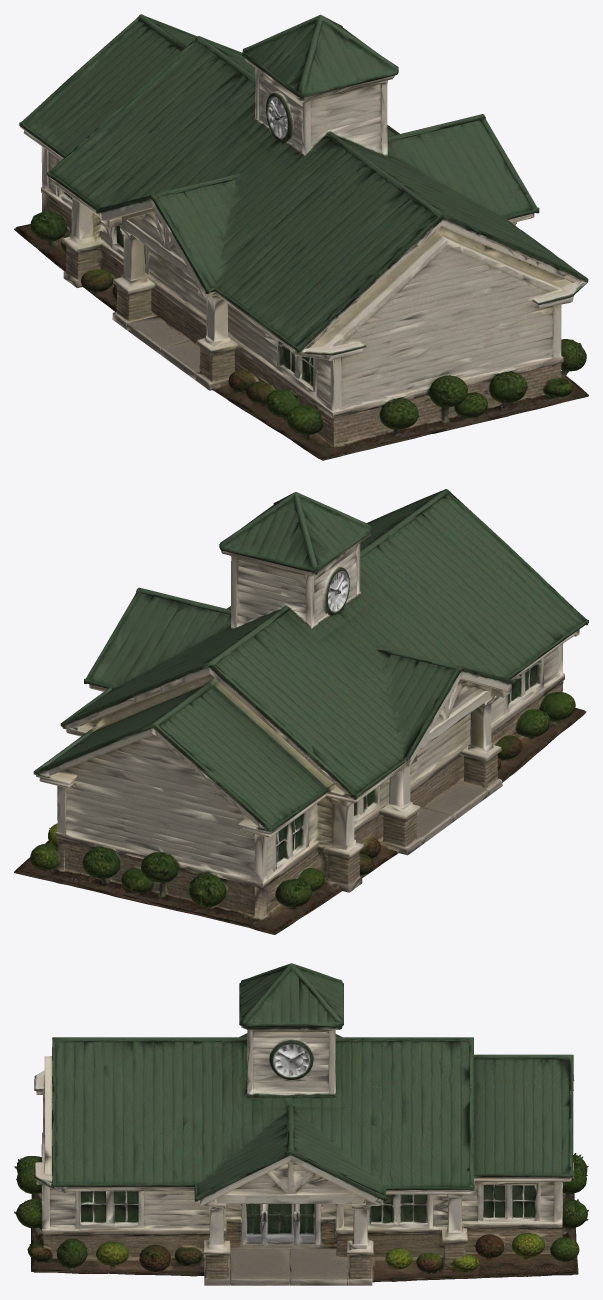
The model's file is clubhouse_ext_opt.glb.
The picture shows the model from 3 angles, top to bottom: view 1: azimuth 30°, elevation 25°; view 2: azimuth 150°, elevation 25°; view 3: azimuth 270°, elevation 25°; orthographic projection. The views are drawn at different scales.
Visible parts, largest first — view 1: tripo_node_c66626a8-394e-4e8f-b652-7bf8c5440bb5; view 2: tripo_node_c66626a8-394e-4e8f-b652-7bf8c5440bb5; view 3: tripo_node_c66626a8-394e-4e8f-b652-7bf8c5440bb5.
Part boxes in pixels (box(x1,y1,x2,y2)): tripo_node_c66626a8-394e-4e8f-b652-7bf8c5440bb5: box(14, 14, 588, 460); tripo_node_c66626a8-394e-4e8f-b652-7bf8c5440bb5: box(14, 489, 588, 934); tripo_node_c66626a8-394e-4e8f-b652-7bf8c5440bb5: box(14, 963, 588, 1285).
Size of the model in its own units: 0.5684 by 0.4915 by 0.9821.
Materials: 1 (1 with a texture image).
